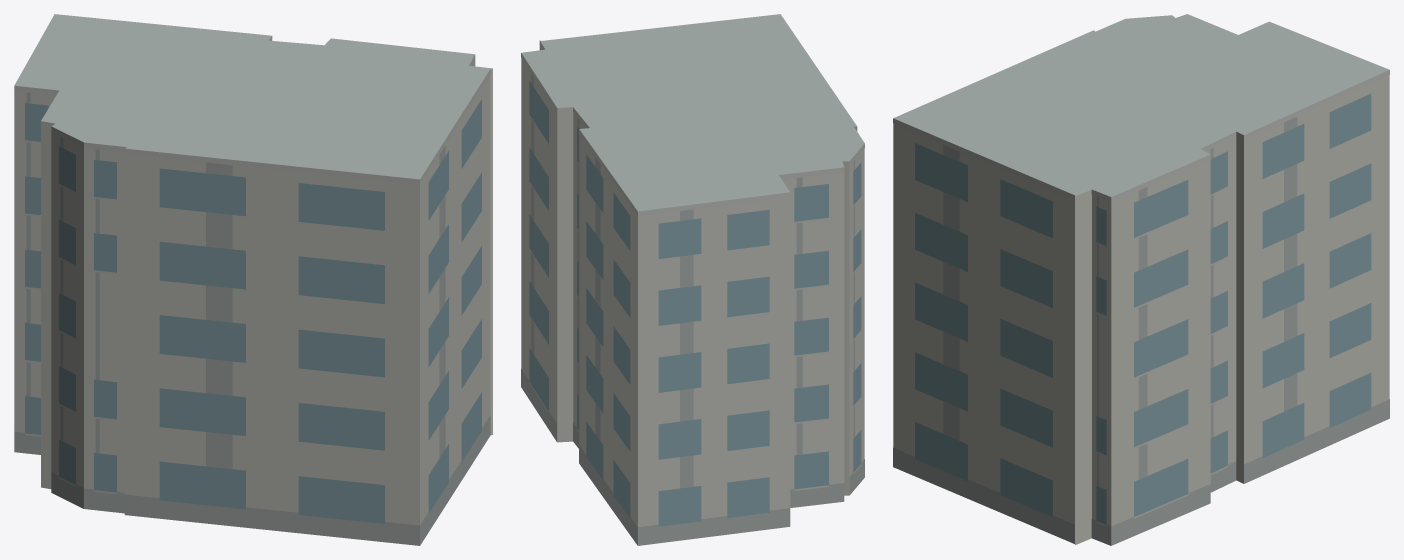
File: survey-upis-32773198.glb
3 renders of one model, left to right at view 1: azimuth 30°, elevation 25°; view 2: azimuth 150°, elevation 25°; view 3: azimuth 270°, elevation 25°, orthographic. The views are drawn at different scales.
Visible parts, largest first — view 1: survey-upis-32773198.tmp; view 2: survey-upis-32773198.tmp; view 3: survey-upis-32773198.tmp.
Boxes of the visible parts, x1,y1,x2,y2 form: survey-upis-32773198.tmp: [14, 14, 492, 545]; survey-upis-32773198.tmp: [521, 14, 864, 545]; survey-upis-32773198.tmp: [893, 14, 1389, 545].
Bounding box in the file's own units: 18.36 × 16.3 × 21.04.
